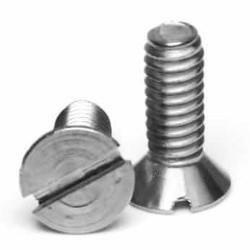slotted: (20, 125, 136, 238)
